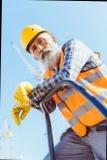helmet: (19, 23, 50, 52)
wear: (46, 65, 107, 138)
